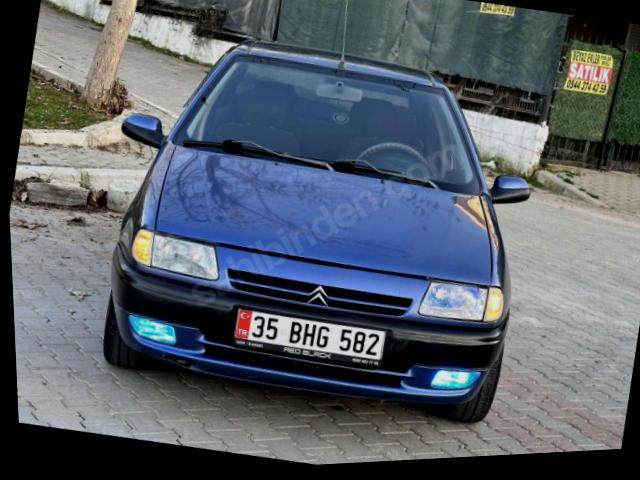plaka: (233, 308, 385, 365)
